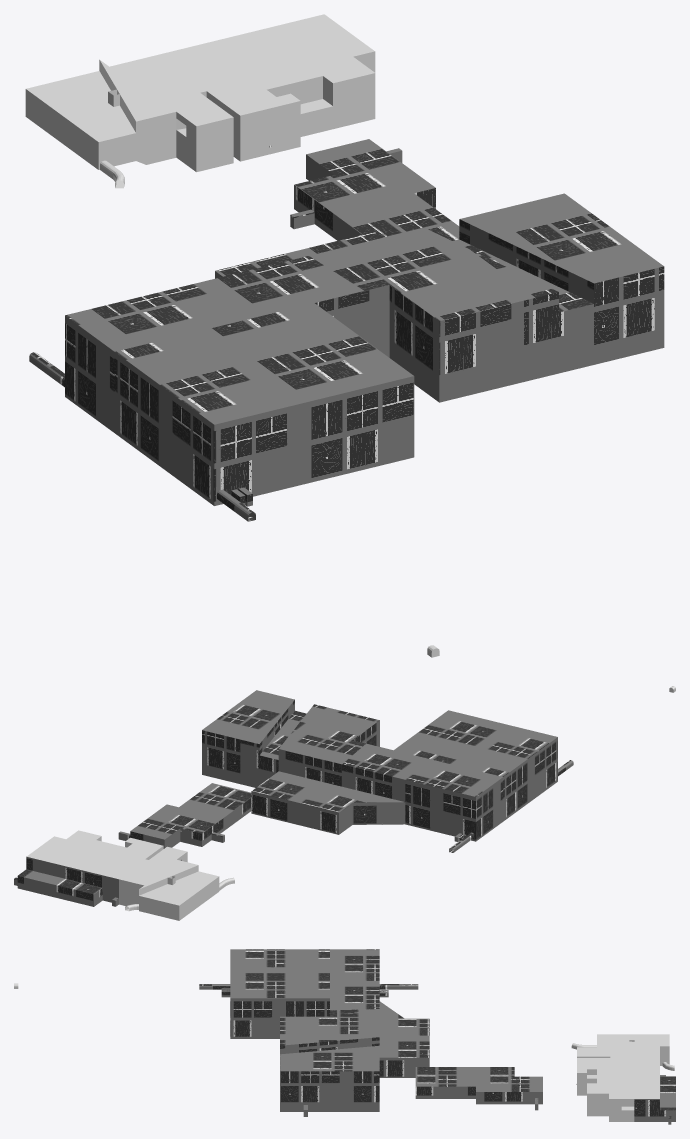
Rendered from FMP_LVL1.fbx.
3 renders of one model, top to bottom at view 1: azimuth 30°, elevation 25°; view 2: azimuth 150°, elevation 25°; view 3: azimuth 270°, elevation 25°, orthographic. The views are drawn at different scales.
Parts seen in each view (by area): view 1: Plane.010, Plane, AREA12_Factories.018, Plane.012, Plane.007, AREA12_Factories.015, AREA12_Factories.022, Plane.008, Plane.009, AREA12_Factories.009, AREA12_Factories, AREA12_Factories.032 (+2 smaller); view 2: Plane.010, Plane.011, Plane, Plane.012, AREA12_Factories.018, Plane.009, Plane.007, AREA12_Factories.010, AREA12_Factories.022, Plane.008, AREA12_Factories.015, AREA12_Factories.031 (+2 smaller); view 3: Plane.010, Plane.007, AREA12_Factories.018, Plane.011, Plane.012, Plane, AREA12_Factories.022, AREA12_Factories.010, Plane.008, AREA12_Factories.009, AREA12_Factories.029, AREA12_Factories.033 (+3 smaller).
Boxes of the visible parts, <box> form: Plane.010: <box>114,303,414,521</box>; Plane: <box>309,227,558,402</box>; AREA12_Factories.018: <box>99,14,374,126</box>; Plane.012: <box>65,256,389,357</box>; Plane.007: <box>459,193,664,364</box>; AREA12_Factories.015: <box>25,60,176,188</box>; AREA12_Factories.022: <box>294,139,459,240</box>; Plane.008: <box>453,219,593,381</box>; Plane.009: <box>29,316,114,432</box>; AREA12_Factories.009: <box>267,51,375,136</box>; AREA12_Factories: <box>206,91,300,161</box>; AREA12_Factories.032: <box>176,91,233,172</box>; Plane.010: <box>394,710,573,821</box>; Plane.011: <box>251,771,405,834</box>; Plane: <box>278,704,379,786</box>; Plane.012: <box>342,743,502,801</box>; AREA12_Factories.018: <box>27,830,198,888</box>; Plane.009: <box>405,777,503,852</box>; Plane.007: <box>202,690,294,783</box>; AREA12_Factories.010: <box>14,856,118,906</box>; AREA12_Factories.022: <box>130,783,251,839</box>; Plane.008: <box>240,700,306,787</box>; AREA12_Factories.015: <box>139,865,234,920</box>; AREA12_Factories.031: <box>119,879,179,920</box>; Plane.010: <box>199,949,329,1038</box>; Plane.007: <box>280,1045,379,1116</box>; AREA12_Factories.018: <box>577,1037,667,1098</box>; Plane.011: <box>379,1001,429,1077</box>; Plane.012: <box>330,949,379,1010</box>; Plane: <box>280,1009,379,1045</box>; AREA12_Factories.022: <box>415,1067,542,1091</box>; AREA12_Factories.010: <box>634,1075,675,1124</box>; Plane.008: <box>280,1037,379,1054</box>; AREA12_Factories.009: <box>577,1069,608,1116</box>; AREA12_Factories.029: <box>476,1092,542,1110</box>; AREA12_Factories.033: <box>415,1086,475,1098</box>.
Size of the model in its own units: 708 by 1474 by 100.
